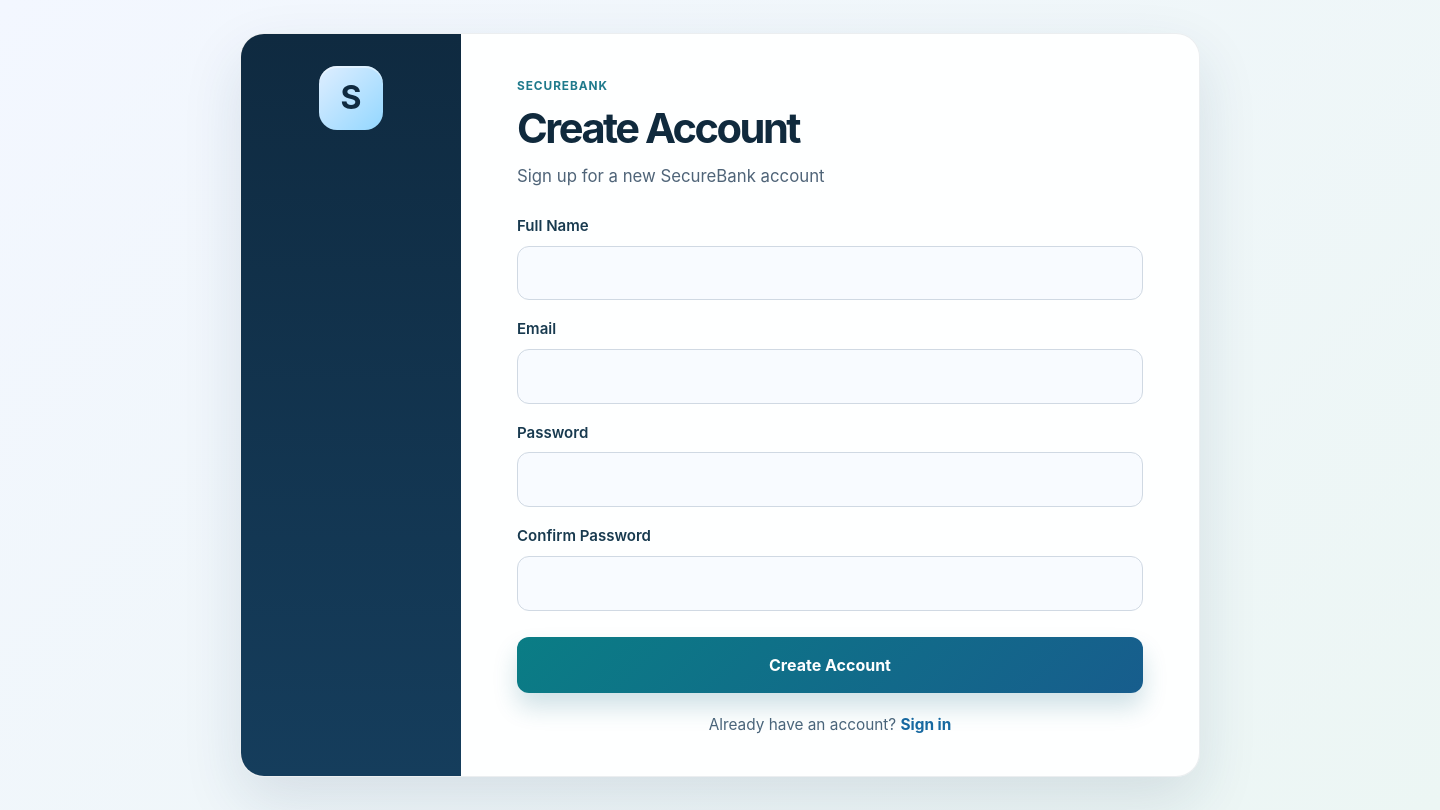
it: Signup screen › shows validation errors when required fields are missing
The width and height of the screenshot is (1440, 810).
Click the button "Create Account" at {"x": 830, "y": 664}, box [517, 636, 1143, 692]
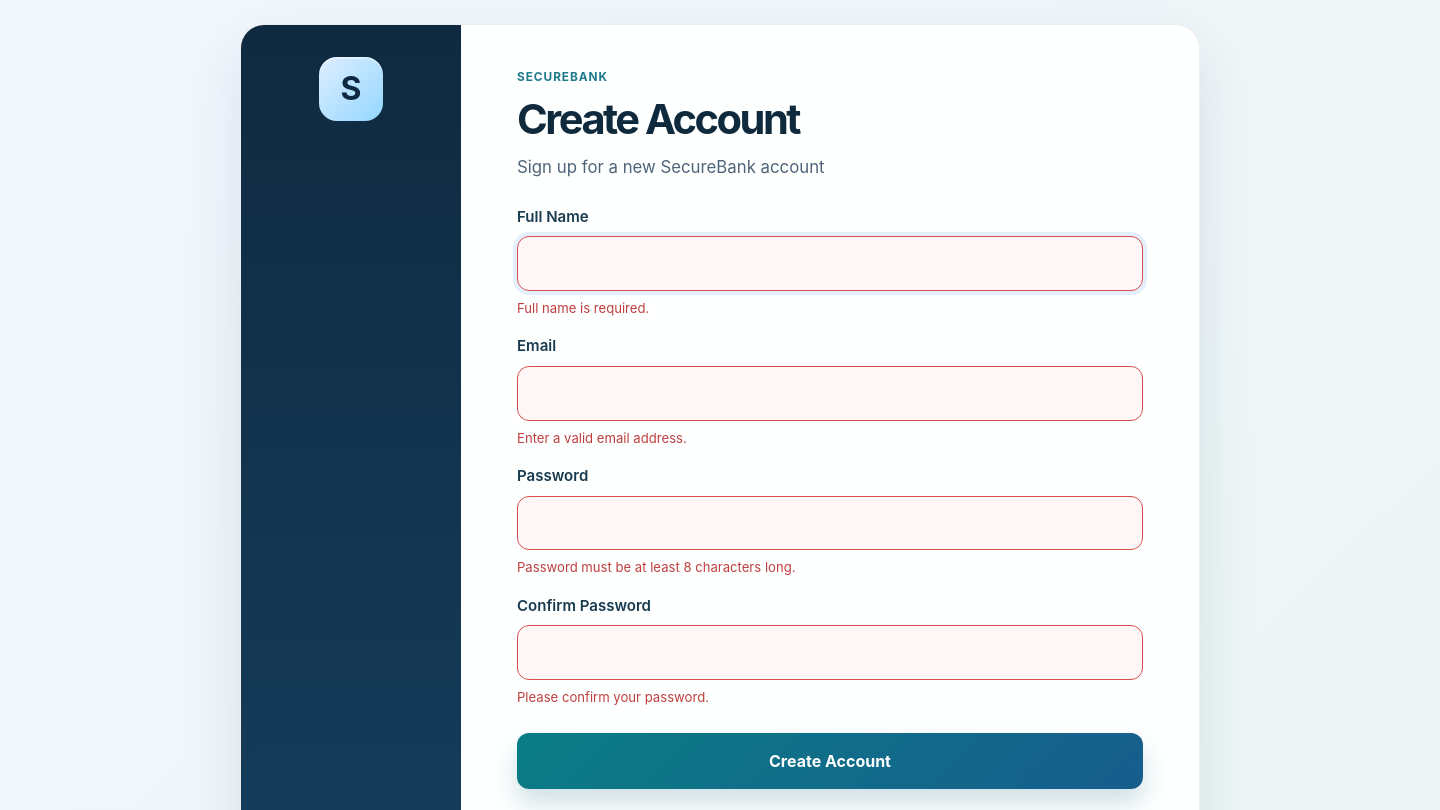
Expected: the text "Full name is required." is shown, [517, 300, 649, 316]
Expected: the text "Enter a valid email address." is shown, [517, 430, 687, 446]
Expected: the text "Password must be at least 8 characters long." is shown, [517, 560, 796, 576]
